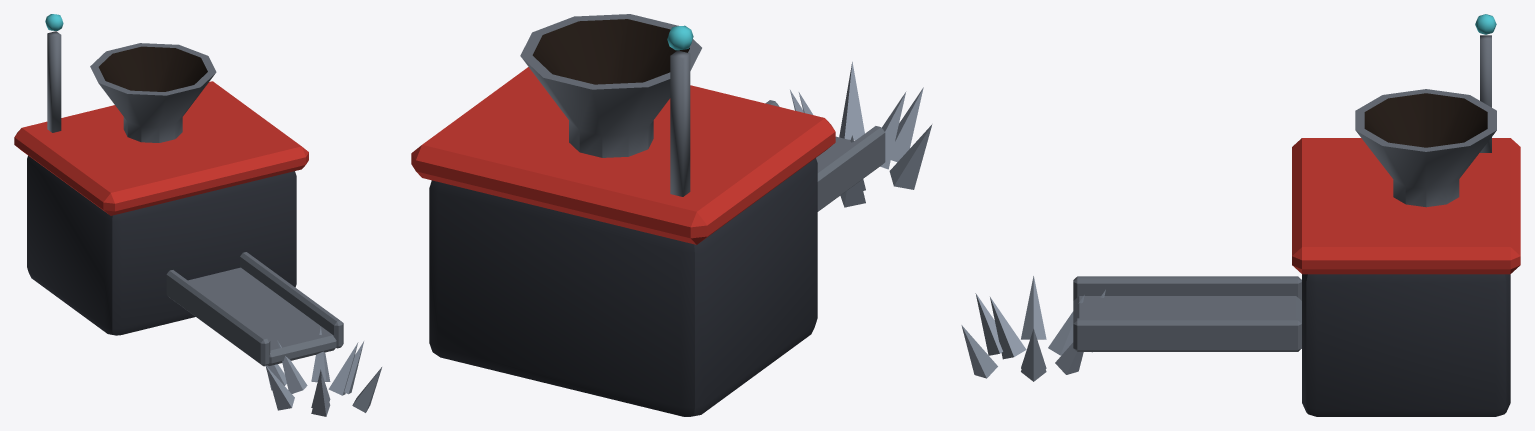
3 views of the same model, side by side, from view 1: azimuth 30°, elevation 25°; view 2: azimuth 150°, elevation 25°; view 3: azimuth 270°, elevation 25° (orthographic). The views are drawn at different scales.
Visible parts, largest first — view 1: espinhos_0_base, espinhos_1_torreta; view 2: espinhos_0_base, espinhos_1_torreta; view 3: espinhos_0_base, espinhos_1_torreta.
Part boxes in pixels (x1,y1,x2,y2): espinhos_0_base: (14,14,381,416); espinhos_1_torreta: (166,252,343,366); espinhos_0_base: (411,14,932,416); espinhos_1_torreta: (765,100,885,211); espinhos_0_base: (961,14,1520,416); espinhos_1_torreta: (1073,276,1301,351).
Size of the model in its own units: 0.56 by 0.6918 by 1.13.
